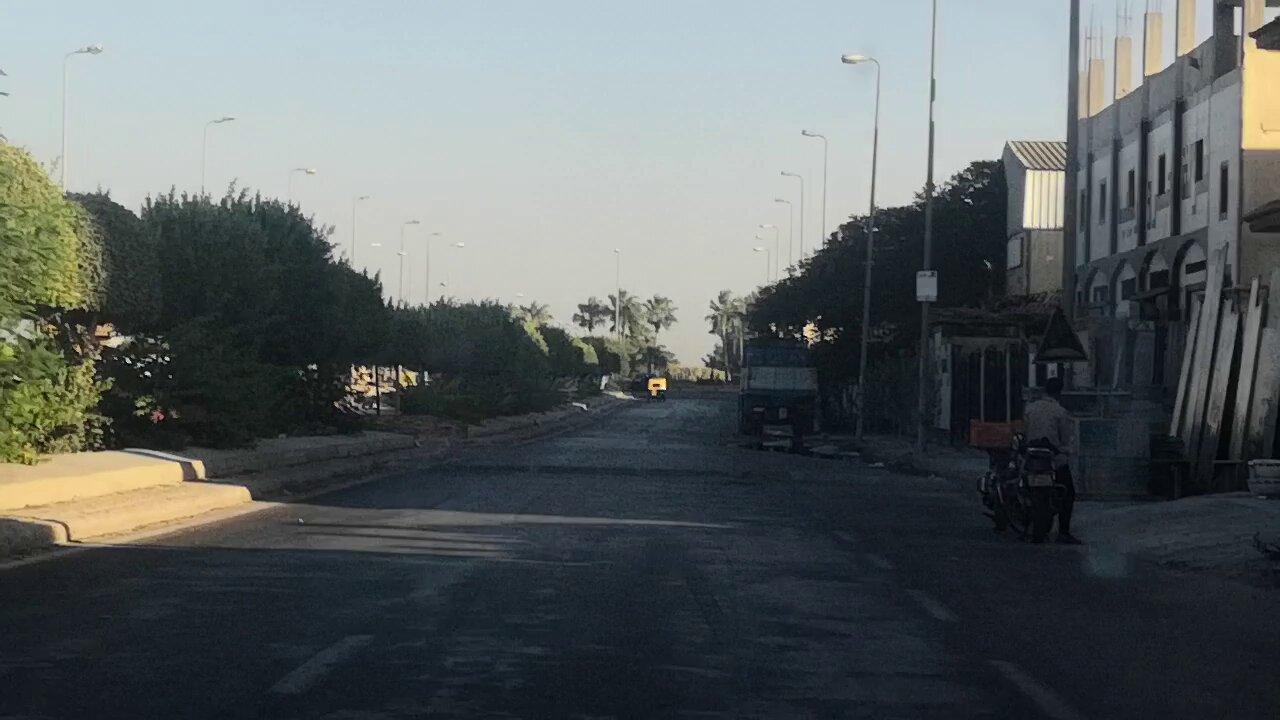Bump: (427, 452, 950, 492)
